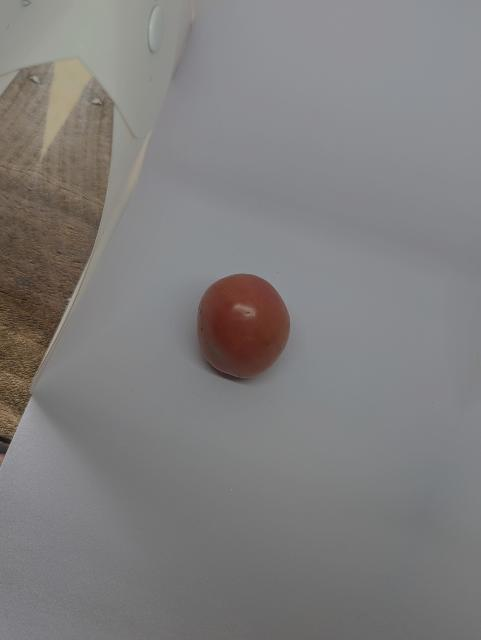red: (184, 271, 304, 391)
